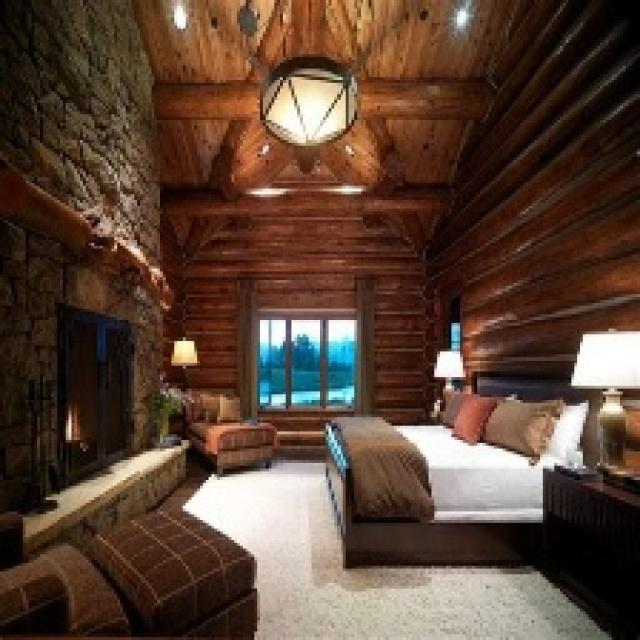lamp: (566, 309, 640, 489), (430, 343, 466, 417), (172, 332, 202, 393)
